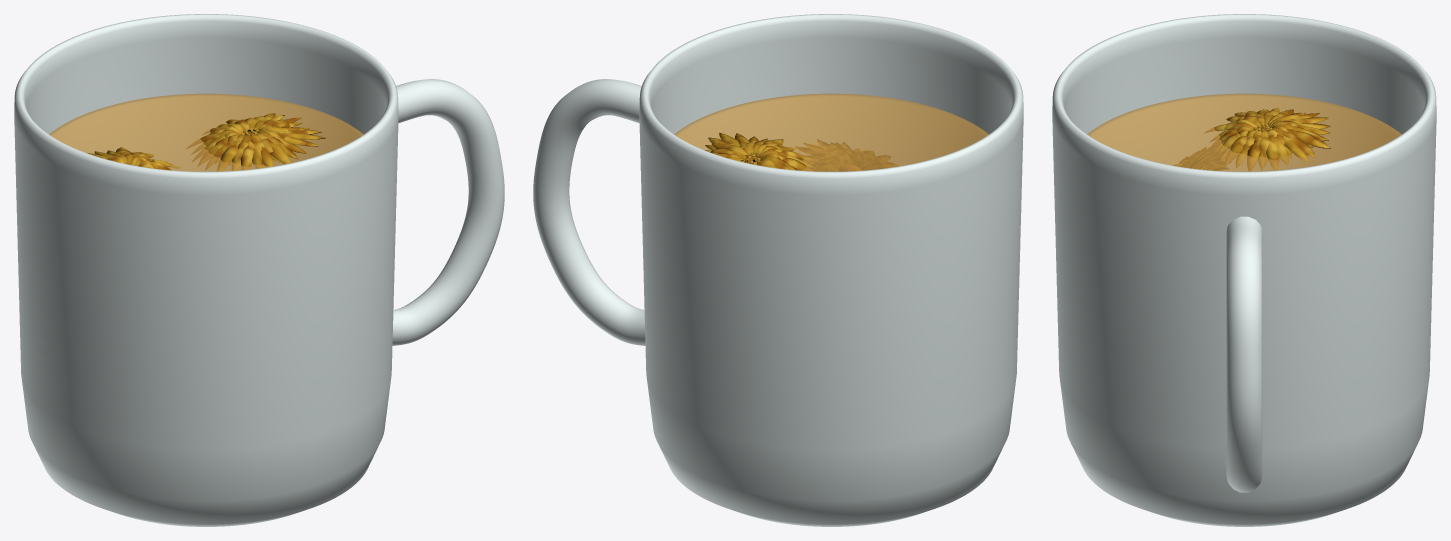
File: guangzhou-tea-original.glb
3 views of the same model, side by side, from view 1: azimuth 30°, elevation 25°; view 2: azimuth 150°, elevation 25°; view 3: azimuth 270°, elevation 25° (orthographic).
Parts seen in each view (by area): view 1: guangzhou-tea; view 2: guangzhou-tea; view 3: guangzhou-tea.
Part boxes in pixels (x1=…): guangzhou-tea: x1=14, y1=14, x2=504, y2=526; guangzhou-tea: x1=533, y1=14, x2=1023, y2=526; guangzhou-tea: x1=1052, y1=14, x2=1436, y2=526.
Bounding box in the file's own units: 0.1166 × 0.091 × 0.084.
7 materials, 5 textured.
